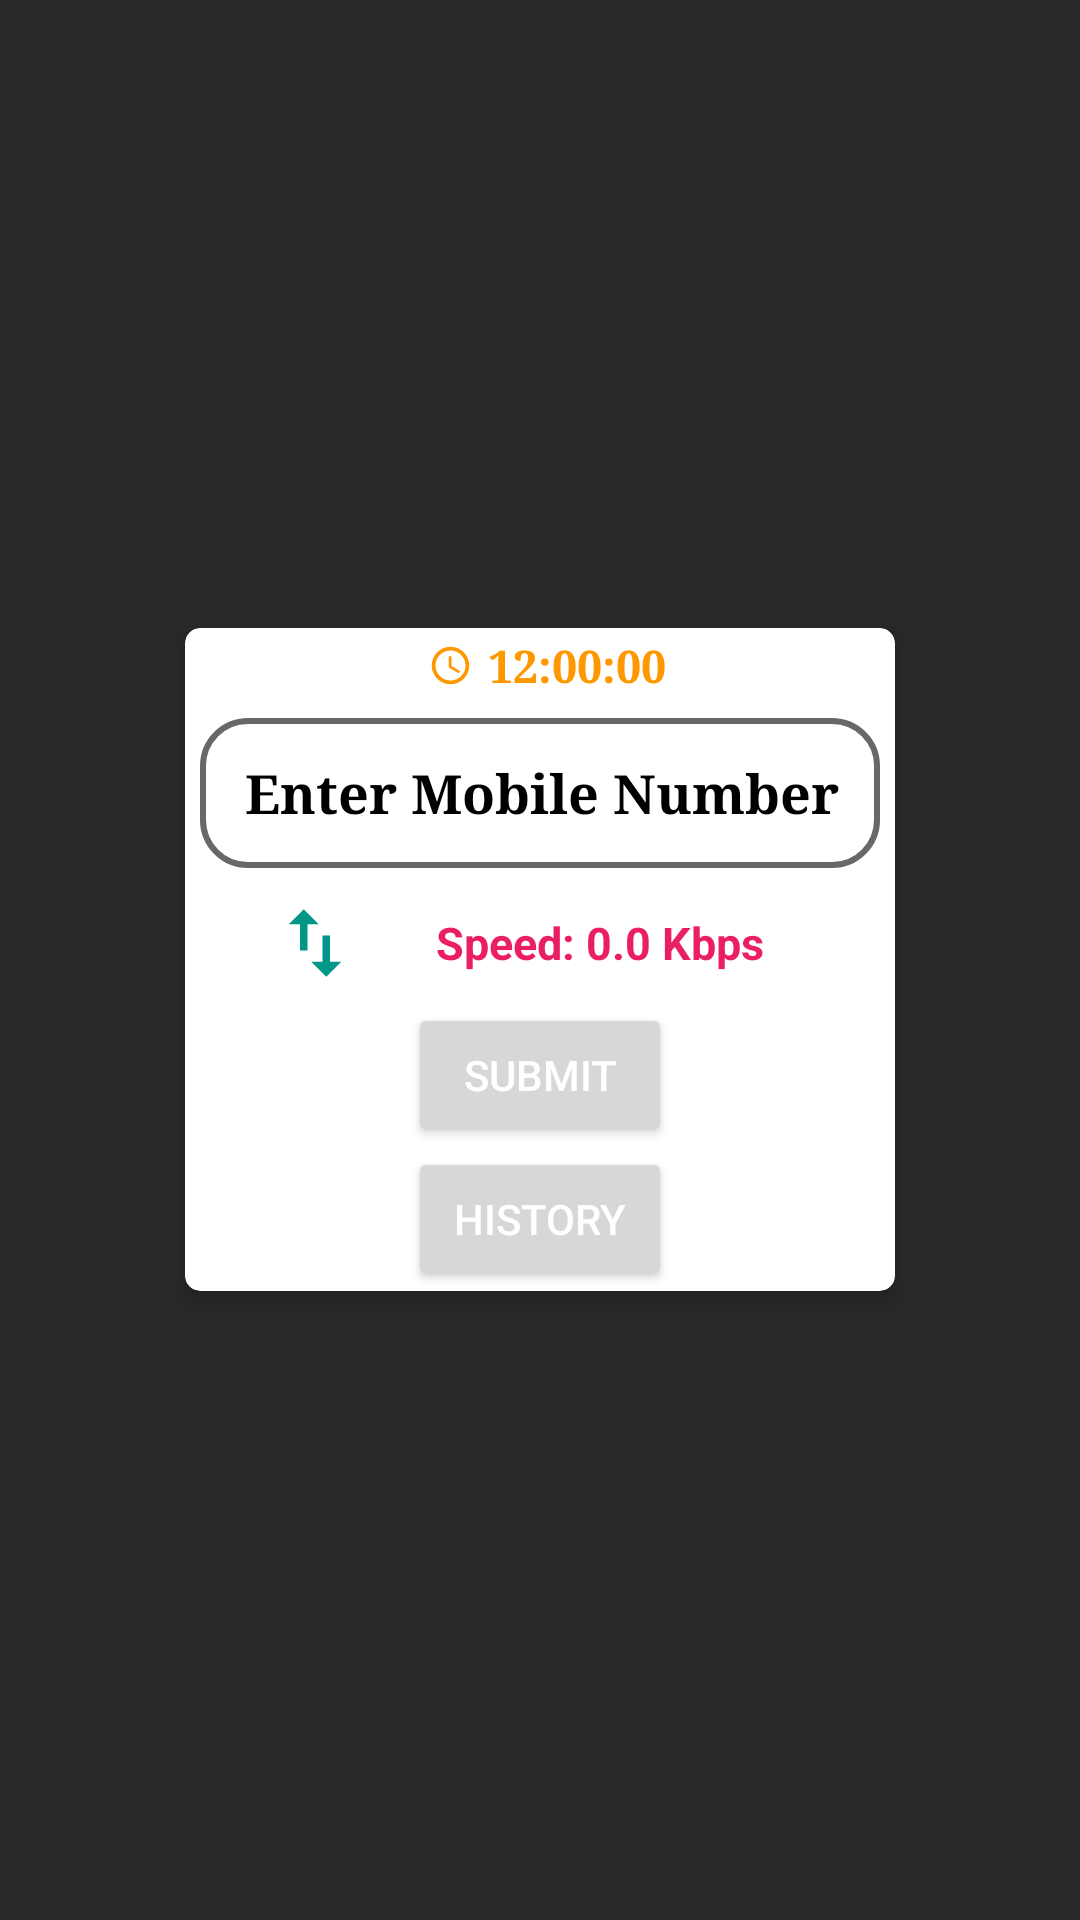

Icon click points for this 1080w x 1920h phone screenshot, format [x,y]:
mobile data: [315,943]
time: [450,665]
